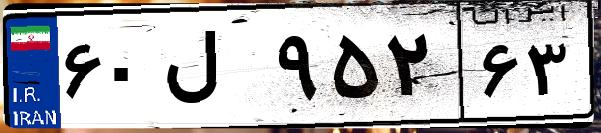0: (110, 28, 158, 98)
2: (385, 28, 445, 110)
3: (525, 38, 570, 115)
5: (330, 28, 385, 110)
6: (57, 26, 110, 100), (475, 38, 525, 113)
9: (270, 28, 330, 110)
ل: (158, 20, 270, 120)
